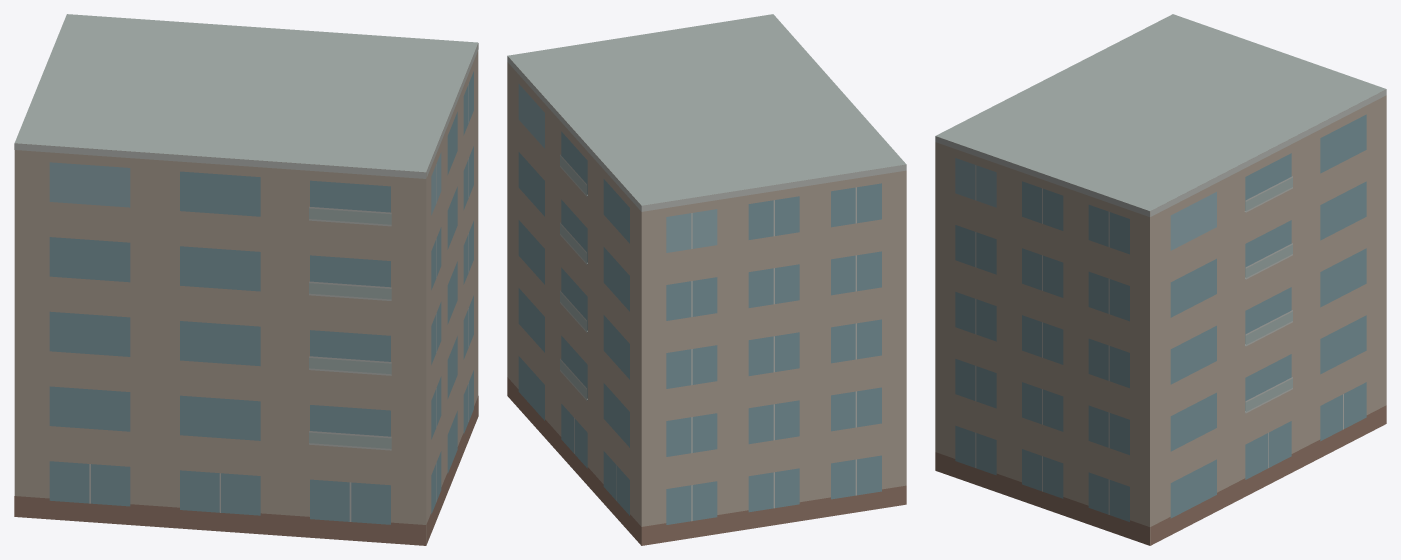
File: survey-upis-32670105.glb
3 views of the same model, side by side, from view 1: azimuth 30°, elevation 25°; view 2: azimuth 150°, elevation 25°; view 3: azimuth 270°, elevation 25° (orthographic). The views are drawn at different scales.
Parts seen in each view (by area): view 1: survey-upis-32670105.tmp; view 2: survey-upis-32670105.tmp; view 3: survey-upis-32670105.tmp.
Part boxes in pixels (x1,y1,x2,y2): survey-upis-32670105.tmp: [14, 14, 478, 545]; survey-upis-32670105.tmp: [507, 14, 906, 545]; survey-upis-32670105.tmp: [935, 14, 1386, 545].
Size of the model in its own units: 17.11 by 13.53 by 16.55.
